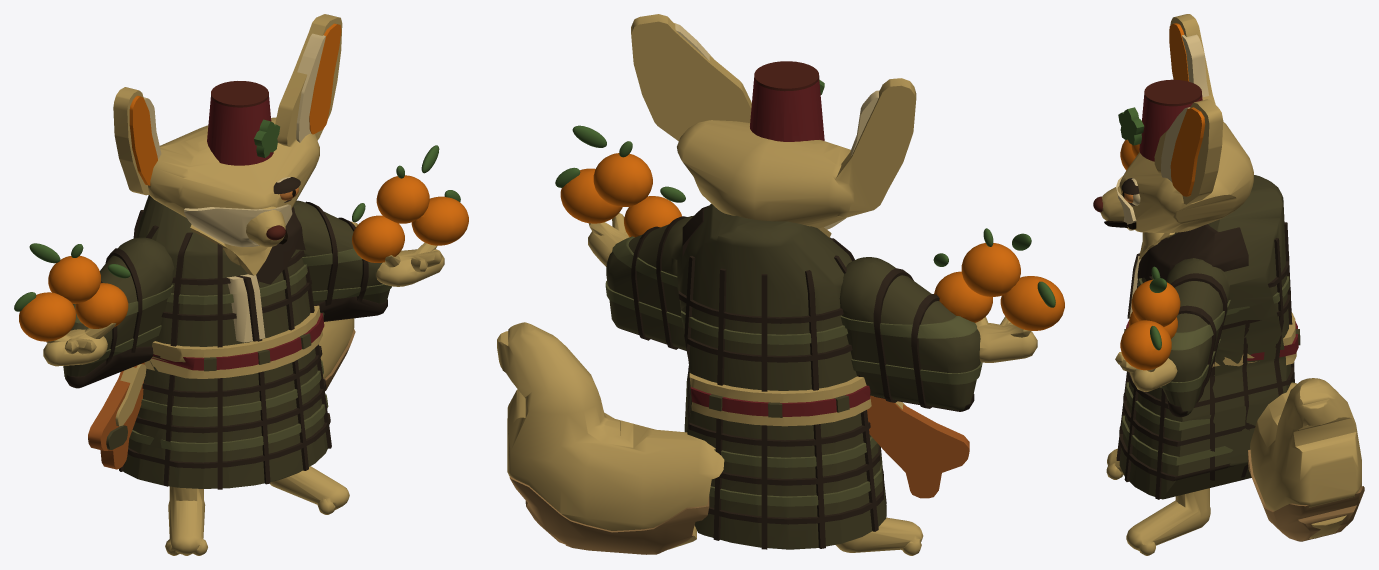
File: clementar.glb
The picture shows the model from 3 angles, left to right: view 1: azimuth 30°, elevation 25°; view 2: azimuth 150°, elevation 25°; view 3: azimuth 270°, elevation 25°; orthographic projection. The views are drawn at different scales.
Parts seen in each view (by area): view 1: creature; view 2: creature; view 3: creature.
Part boxes in pixels (x1,y1,x2,y2): creature: (14,14,468,555); creature: (497,14,1064,555); creature: (1093,14,1364,555).
Bounding box in the file's own units: 1.01 × 1 × 0.536.
